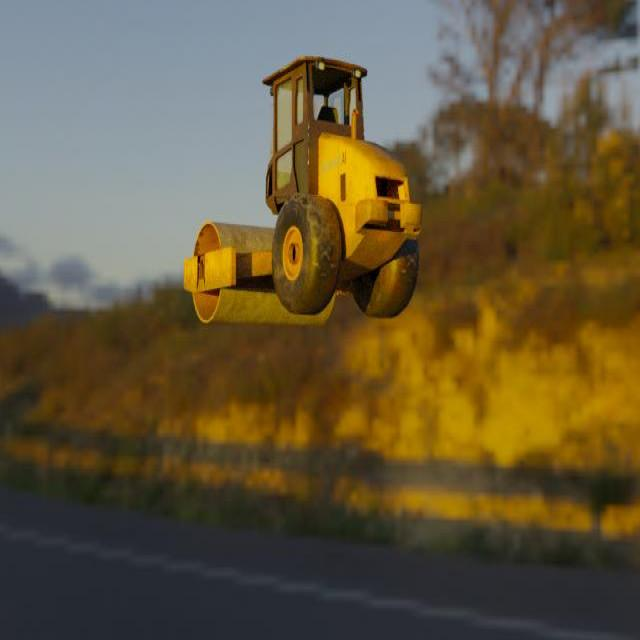Roller: (183, 55, 422, 326)
